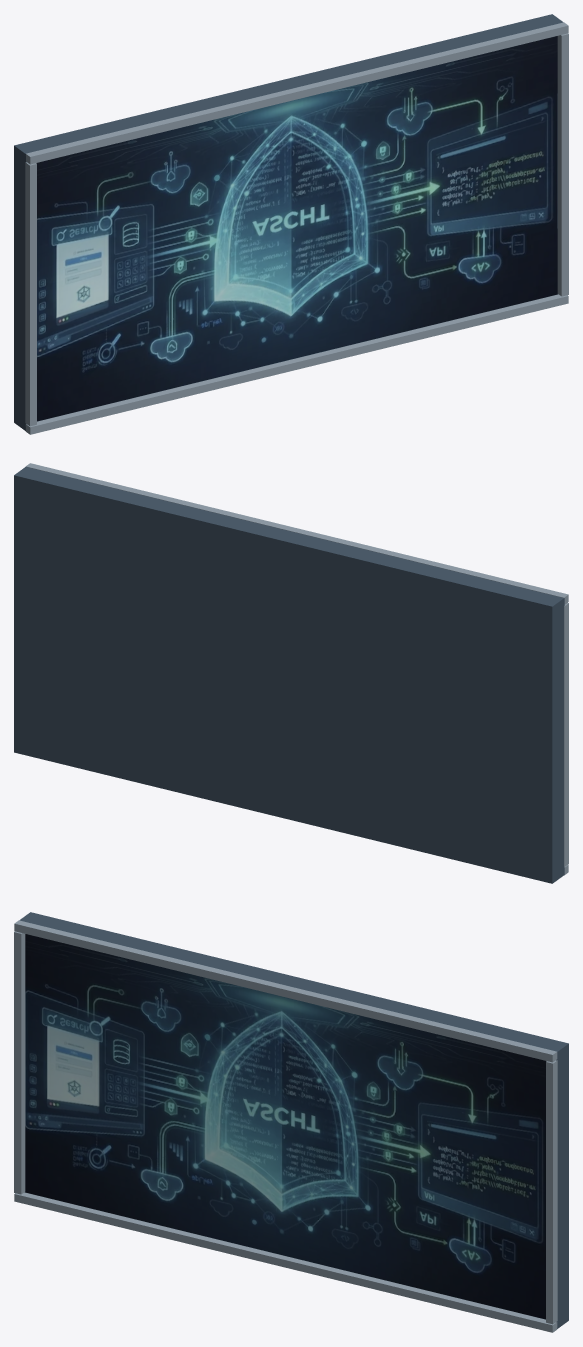
Rendered from ASCHT_cyber_shield_3D.glb.
3 views of the same model, one above another, from view 1: azimuth 30°, elevation 25°; view 2: azimuth 150°, elevation 25°; view 3: azimuth 330°, elevation 25° (orthographic).
Parts seen in each view (by area): view 1: ASCHT shield/API artwork texture, Solid metallic backing, Raised metallic frame 1, Raised metallic frame 2, Raised metallic frame 3, Raised metallic frame 4; view 2: Solid metallic backing, Raised metallic frame 1, Raised metallic frame 3; view 3: ASCHT shield/API artwork texture, Solid metallic backing, Raised metallic frame 1, Raised metallic frame 2, Raised metallic frame 4, Raised metallic frame 3.
Boxes of the visible parts, x1,y1,x2,y2 form: ASCHT shield/API artwork texture: (36,36,557,421); Solid metallic backing: (14,14,563,430); Raised metallic frame 1: (26,22,568,164); Raised metallic frame 2: (25,294,568,434); Raised metallic frame 3: (25,162,36,426); Raised metallic frame 4: (557,33,568,296); Solid metallic backing: (14,467,564,883); Raised metallic frame 1: (26,463,568,604); Raised metallic frame 3: (564,603,568,866); ASCHT shield/API artwork texture: (25,934,546,1319); Solid metallic backing: (19,912,568,1328); Raised metallic frame 1: (14,920,557,1062); Raised metallic frame 2: (14,1192,557,1332); Raised metallic frame 4: (546,1060,557,1324); Raised metallic frame 3: (14,931,25,1194).
Bounding box in the file's own units: 4.12 × 2.03 × 0.215.
Materials: 1 (1 with a texture image).
